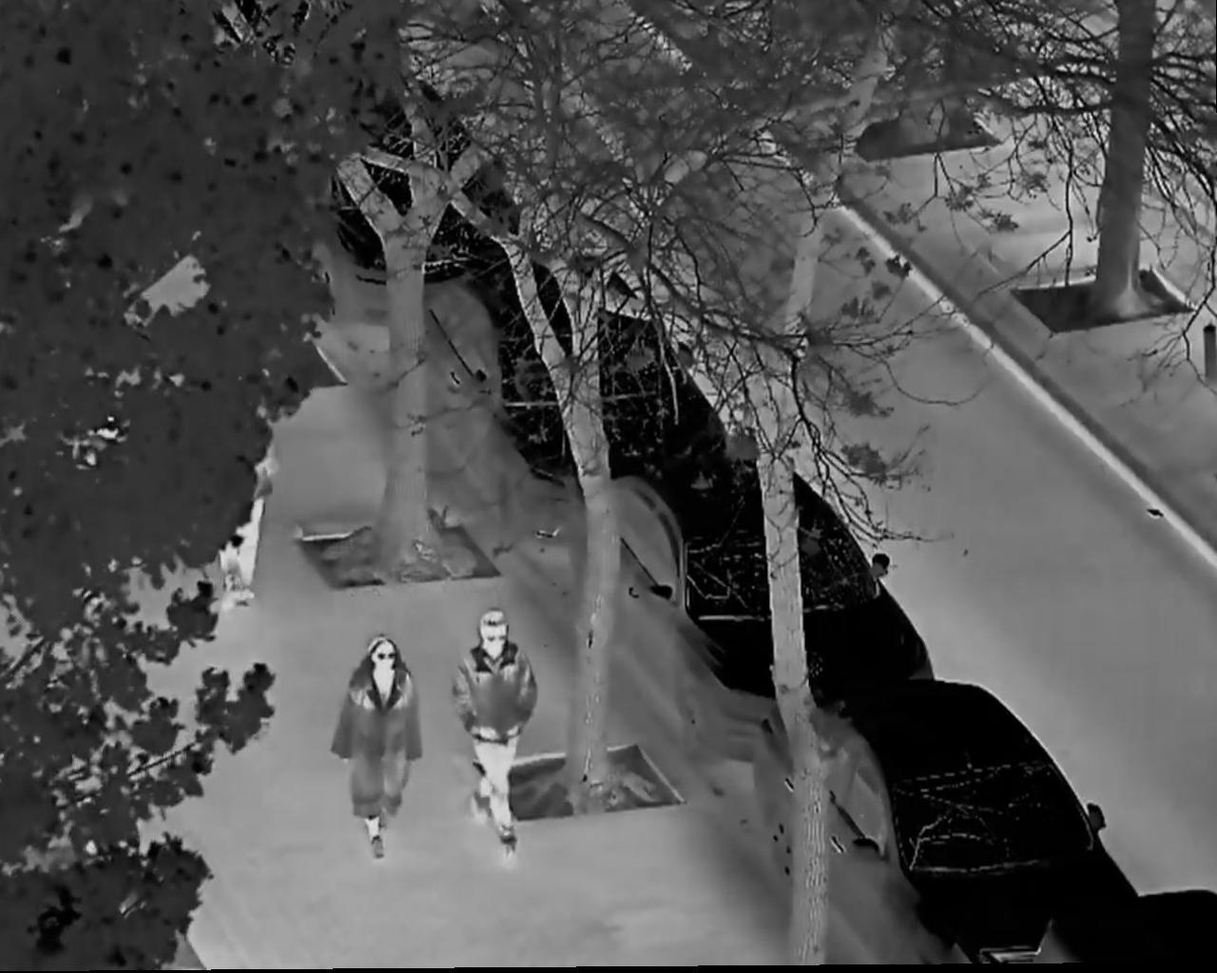person: (456, 612, 543, 855), (339, 638, 425, 865), (198, 386, 278, 619)
